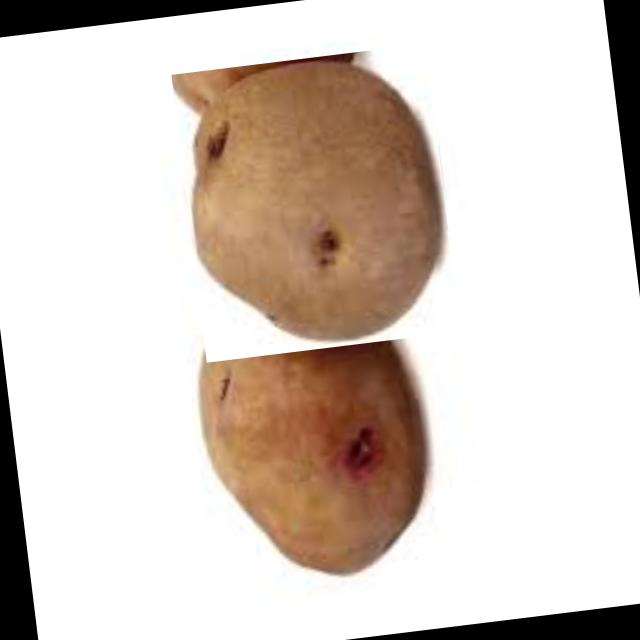Diseased-fungal potato: (170, 44, 459, 362), (183, 276, 449, 594)
